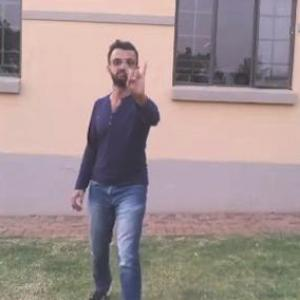takeoff-hand: (120, 54, 157, 100)
